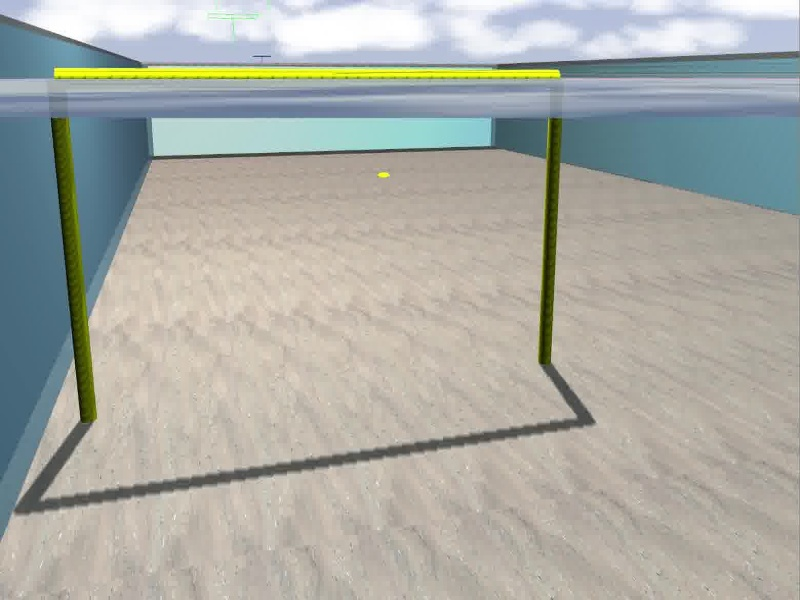gate: (46, 65, 564, 427)
